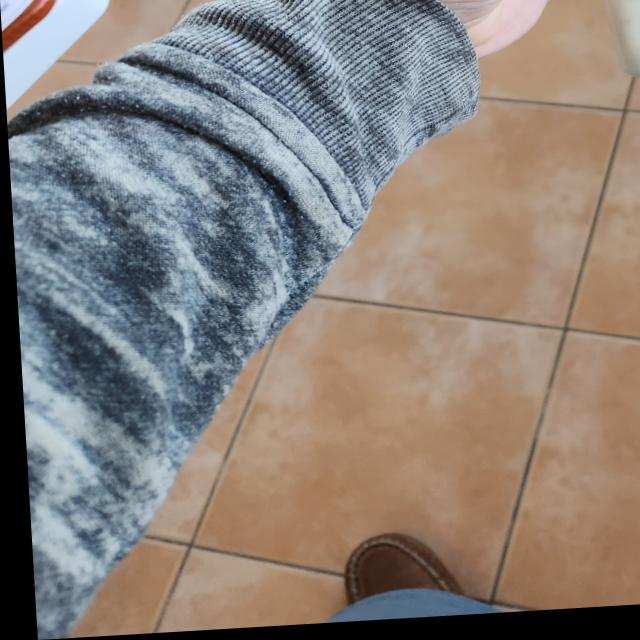tartare sauce: (584, 0, 640, 90)
